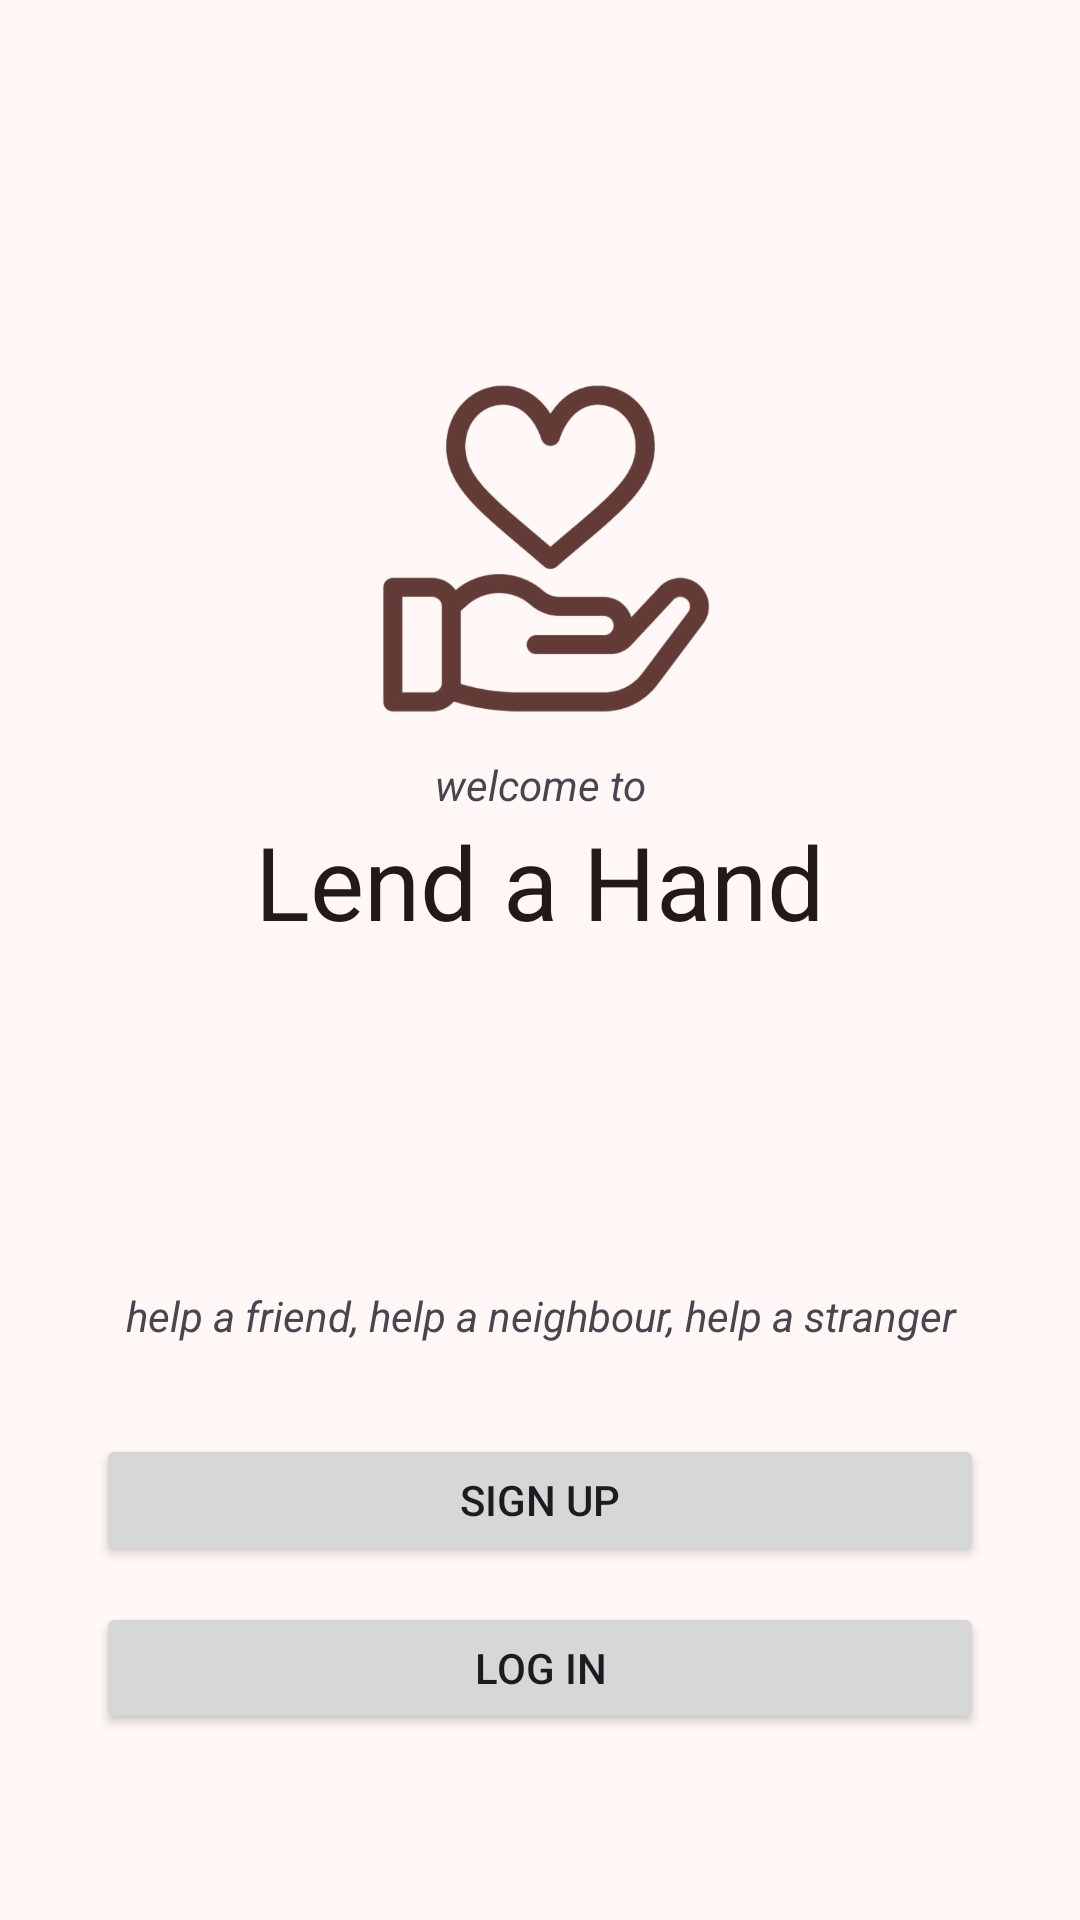

Screen size 1080x1920. Icon name, then its box in pixels as rect(x1, y1, x2, y2):
landingpageicon: rect(383, 385, 709, 712)
